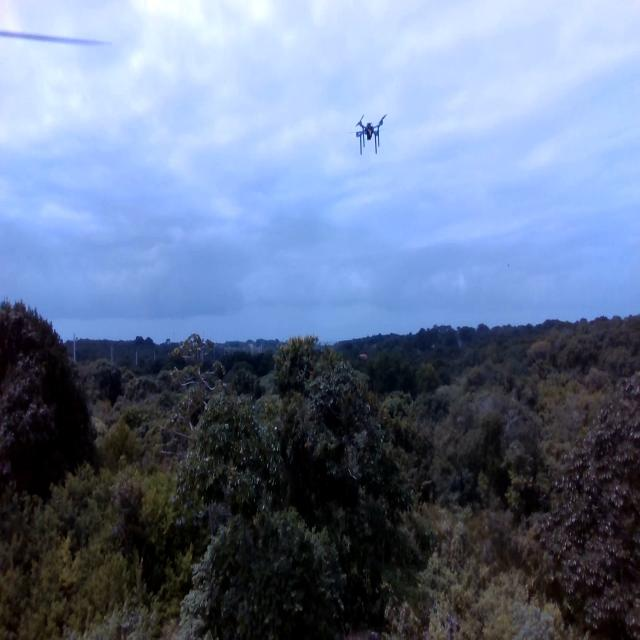-uav-: (351, 111, 389, 156)
